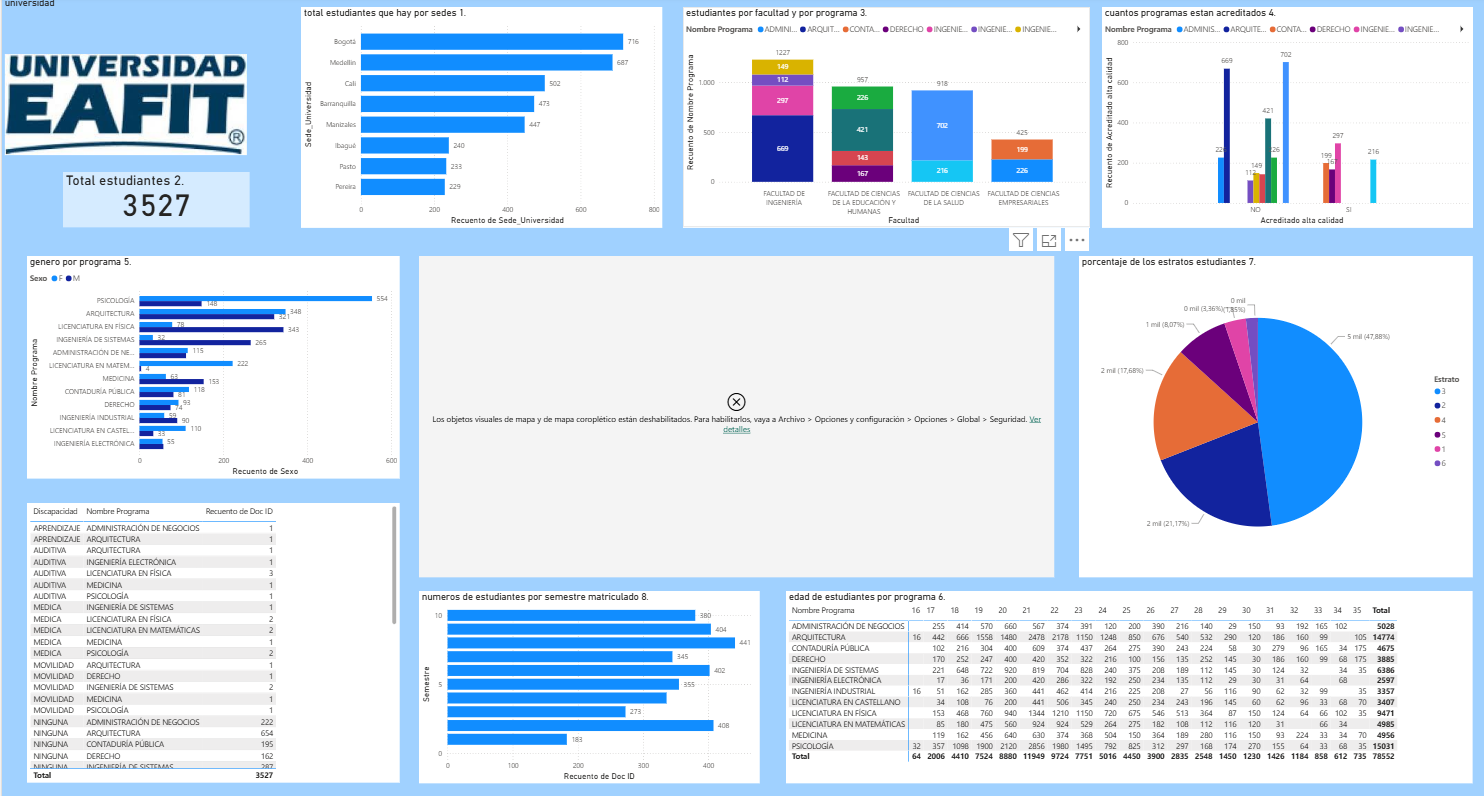

Layout of this report page (visuals, bound fields, positions):
{"tool":"powerbi","page":{"name":"Página 1","canvas":[2600,1400],"ordinal":0},"visuals":[{"type":"image","title":"universidad","box":[0,0,434,358],"z":0},{"type":"card","title":"Total estudiantes   2.","fields":{"Values":["CountNonNull(Estudiantes.Nombre)"]},"box":[106.7,306.7,326.7,96.7],"z":1000},{"type":"barChart","title":"total estudiantes  que hay por sedes    1.","fields":{"Category":["Estudiantes.Sede_Universidad"],"Y":["CountNonNull(Estudiantes.Sede_Universidad)"]},"box":[523.3,16.7,633.3,386.7],"z":2000},{"type":"columnChart","title":"estudiantes por facultad y por programa 3.","fields":{"Category":["Estudiantes.Facultad"],"Y":["CountNonNull(Estudiantes.Nombre Programa)"],"Series":["Estudiantes.Nombre Programa"]},"box":[1193.3,16.7,713.3,386.7],"z":3000},{"type":"clusteredBarChart","title":"genero por programa 5.","fields":{"Category":["Estudiantes.Nombre Programa"],"Y":["CountNonNull(Estudiantes.Sexo)"],"Series":["Estudiantes.Sexo"]},"box":[43.3,453.3,653.3,390],"z":4000},{"type":"clusteredColumnChart","title":"cuantos programas estan acreditados 4.","fields":{"Category":["Estudiantes.Acreditado alta calidad"],"Y":["CountNonNull(Estudiantes.Acreditado alta calidad)"],"Series":["Estudiantes.Nombre Programa"]},"box":[1926.7,16.7,650,386.7],"z":5000},{"type":"pivotTable","title":"edad de estudiantes por programa 6. ","fields":{"Rows":["Estudiantes.Nombre Programa"],"Columns":["Estudiantes.EDAD"],"Values":["Sum(Estudiantes.EDAD)"]},"box":[1373.3,1040,1203.3,336.7],"z":6000},{"type":"pieChart","title":"porcentaje de los estratos estudiantes 7.","fields":{"Category":["Estudiantes.Estrato"],"Y":["Sum(Estudiantes.Estrato)"]},"box":[1886.7,453.3,690,563.3],"z":7000},{"type":"tableEx","fields":{"Values":["Estudiantes.Discapacidad","Estudiantes.Nombre Programa","CountNonNull(Estudiantes.Doc ID)"]},"box":[43.3,886.7,653.3,490],"z":8000},{"type":"clusteredBarChart","title":"numeros de estudiantes por semestre matriculado  8. ","fields":{"Category":["Estudiantes.Semestre"],"Y":["CountNonNull(Estudiantes.Doc ID)"]},"box":[730,1040,596.7,336.7],"z":9000},{"type":"map","title":"Sede_Universidad con numero de estudiantes","fields":{"Category":["Estudiantes.Sede_Universidad"],"Series":["Estudiantes.Sede_Universidad"],"Size":["CountNonNull(Estudiantes.Sede_Universidad)"]},"box":[730,453.3,1113.3,563.3],"z":10000}]}

Visuals, with their boxes in screenshot pixels (x1, y1, x2, y2), scaled from the page's 2600x1400 canvas onto the 1484x796 screenshot:
"universidad" image: Rect(0, 0, 248, 204)
"Total estudiantes   2." card: Rect(61, 174, 247, 229)
"total estudiantes  que hay por sedes    1." barChart: Rect(299, 9, 660, 229)
"estudiantes por facultad y por programa 3." columnChart: Rect(681, 9, 1088, 229)
"genero por programa 5." clusteredBarChart: Rect(25, 258, 398, 479)
"cuantos programas estan acreditados 4." clusteredColumnChart: Rect(1100, 9, 1471, 229)
"edad de estudiantes por programa 6. " pivotTable: Rect(784, 591, 1471, 783)
"porcentaje de los estratos estudiantes 7." pieChart: Rect(1077, 258, 1471, 578)
tableEx - Estudiantes.Discapacidad x Estudiantes.Nombre Programa: Rect(25, 504, 398, 783)
"numeros de estudiantes por semestre matriculado  8. " clusteredBarChart: Rect(417, 591, 757, 783)
"Sede_Universidad con numero de estudiantes" map: Rect(417, 258, 1052, 578)
